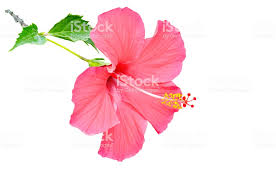hybiscus: (71, 8, 197, 162)
